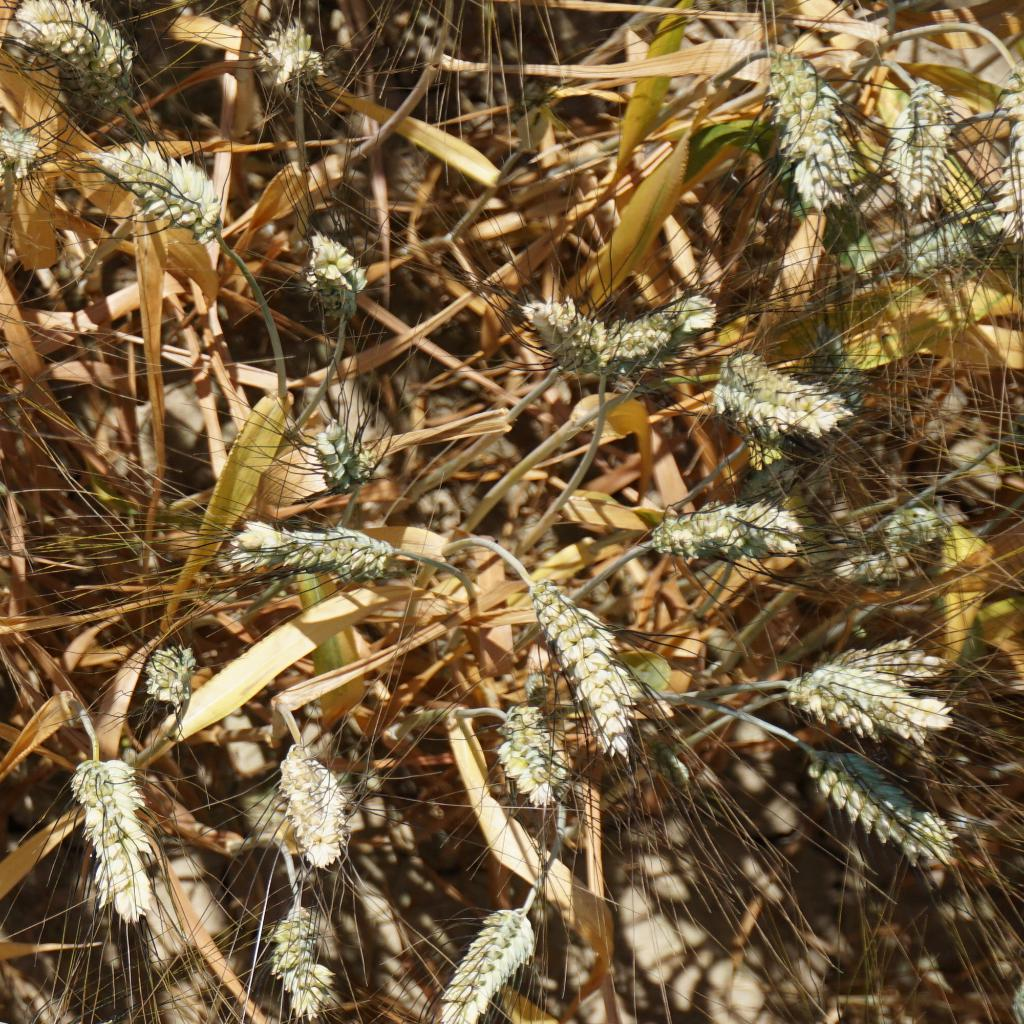0-0: (529, 572, 635, 752), (811, 748, 953, 880), (62, 754, 157, 931), (765, 45, 860, 210), (222, 504, 401, 586), (94, 149, 228, 244), (13, 2, 137, 100), (431, 913, 543, 1021), (795, 667, 941, 744), (714, 354, 846, 439), (657, 494, 791, 572), (870, 67, 949, 198), (263, 896, 342, 1024), (486, 691, 569, 803), (283, 748, 354, 870), (889, 208, 992, 275), (309, 397, 381, 488), (830, 620, 935, 681), (521, 287, 600, 366), (297, 230, 364, 314), (128, 630, 198, 710), (852, 494, 958, 545), (594, 297, 665, 366), (246, 23, 316, 92), (817, 533, 911, 582), (0, 114, 54, 182), (653, 281, 722, 332)
